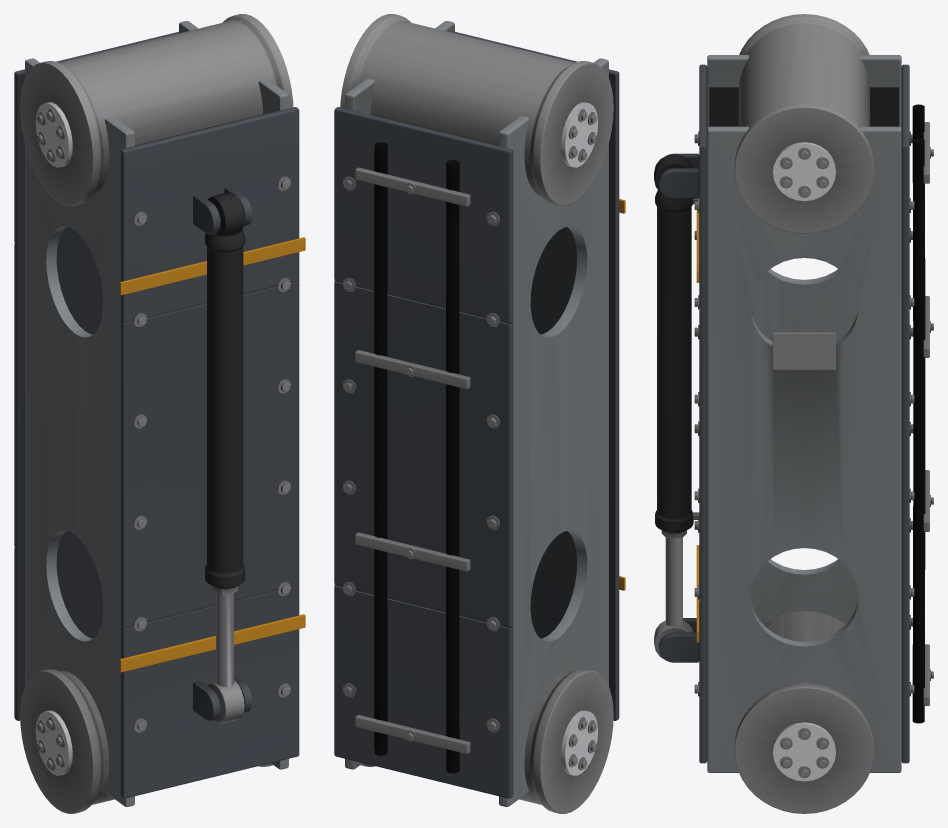
Rendered from bastion.drop_front.glb.
3 renders of one model, left to right at view 1: azimuth 30°, elevation 25°; view 2: azimuth 150°, elevation 25°; view 3: azimuth 270°, elevation 25°, orthographic. The views are drawn at different scales.
Size of the model in its own units: 1.06 by 3.45 by 1.24.
